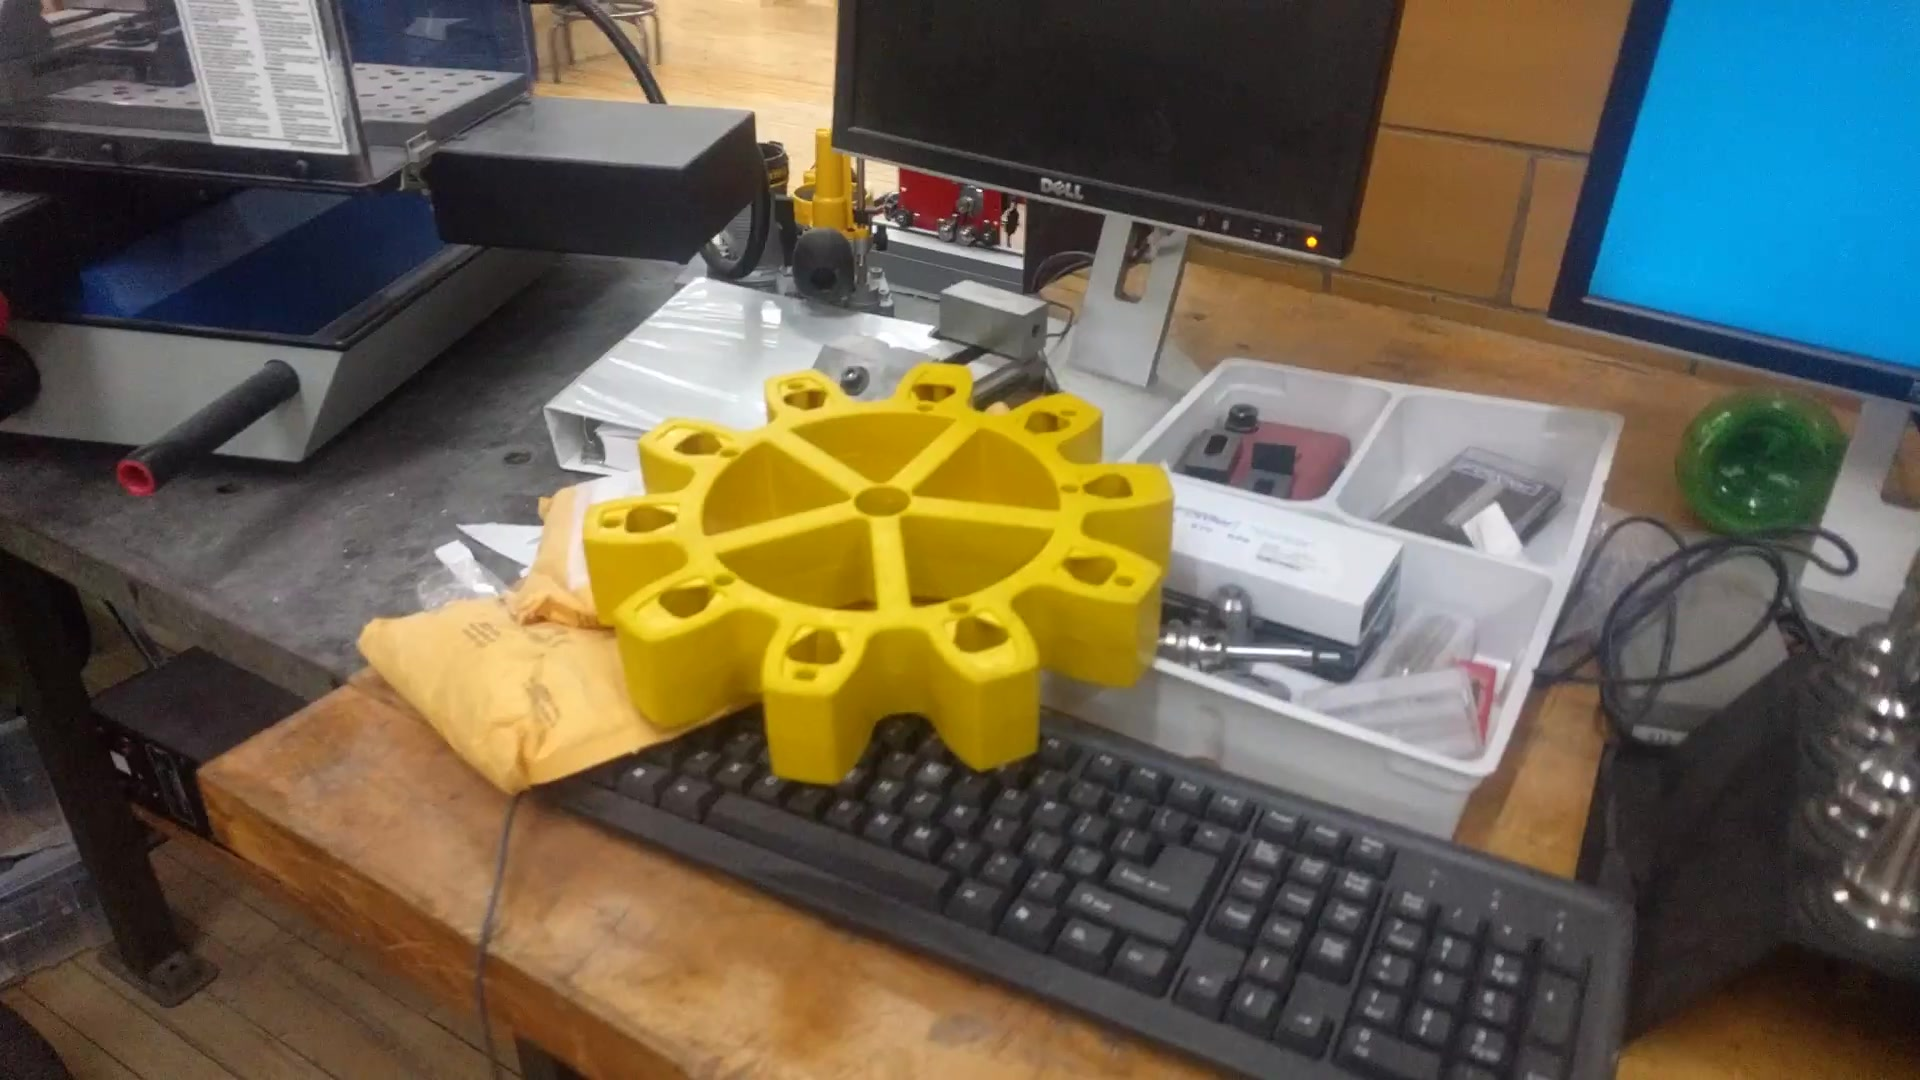gear: (570, 313, 1196, 799)
